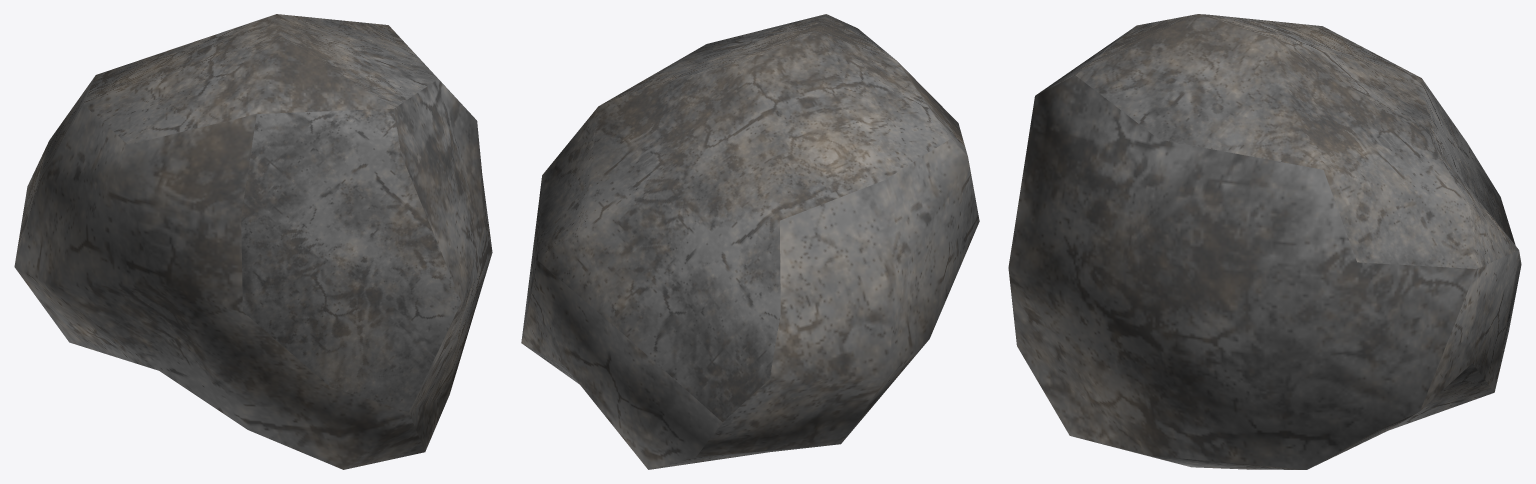
File: Stone.fbx
3 views of the same model, side by side, from view 1: azimuth 30°, elevation 25°; view 2: azimuth 150°, elevation 25°; view 3: azimuth 270°, elevation 25° (orthographic). The views are drawn at different scales.
Visible parts, largest first — view 1: GEO_stone; view 2: GEO_stone; view 3: GEO_stone.
Part boxes in pixels (bbox=[...]): GEO_stone: bbox=[14, 14, 492, 469]; GEO_stone: bbox=[521, 14, 979, 469]; GEO_stone: bbox=[1008, 14, 1521, 469].
Size of the model in its own units: 114 by 115 by 127.
1 material, 1 textured.
